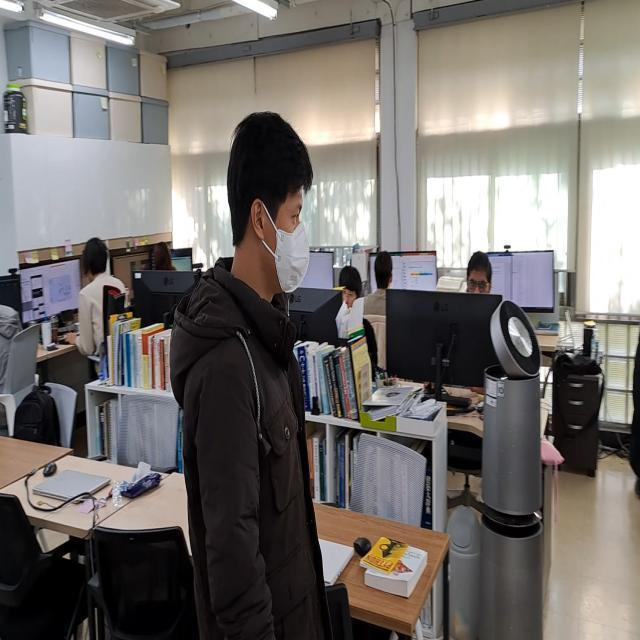vest: (168, 105, 330, 640), (70, 224, 119, 332), (354, 244, 398, 308), (332, 252, 368, 316), (464, 240, 496, 298), (148, 238, 174, 274)
